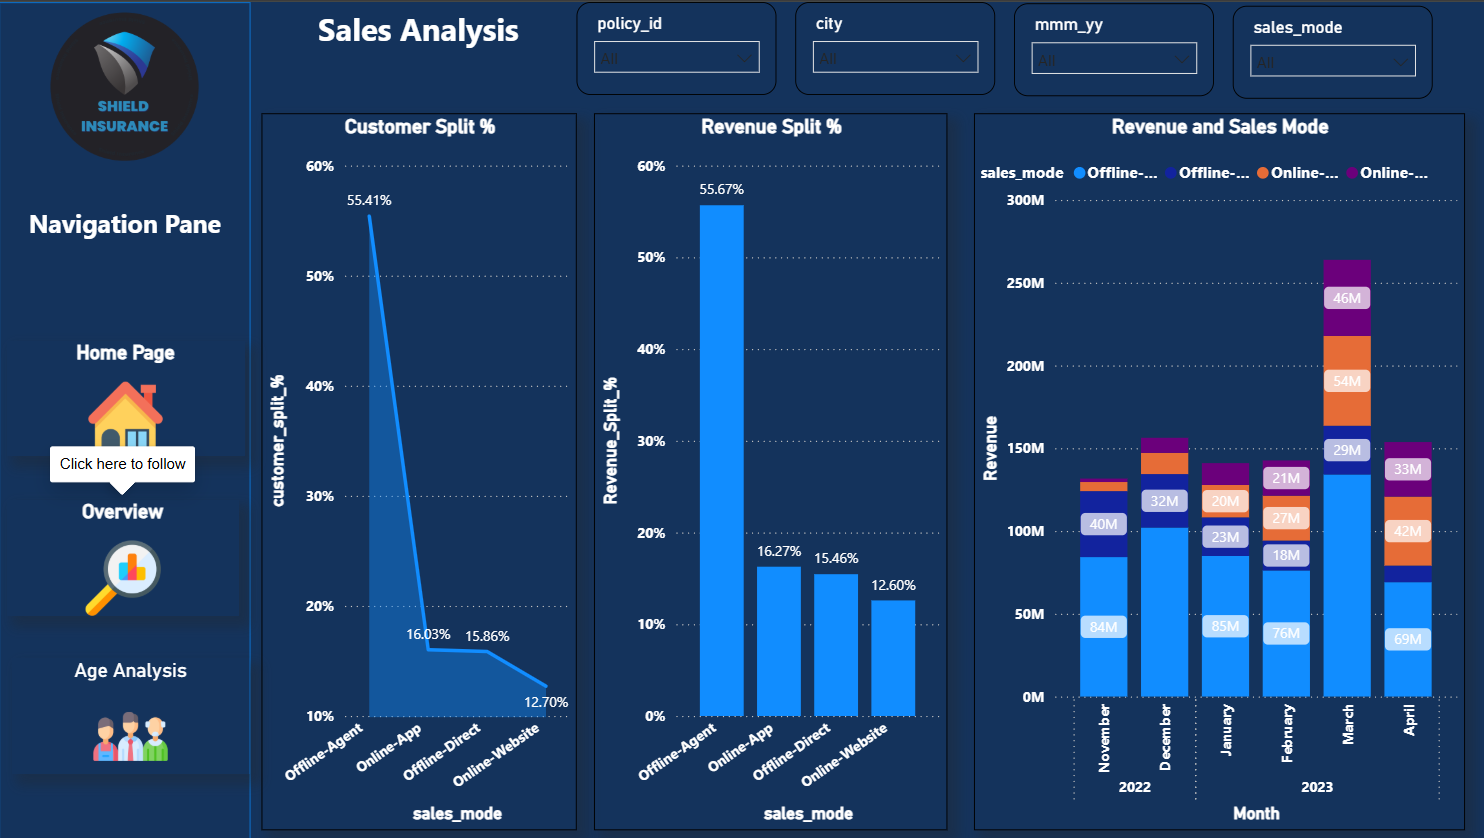

The page's visual inventory and layout, read from the dashboard file:
{"tool":"powerbi","page":{"name":"Sales Analysis","canvas":[1280,720],"ordinal":2},"visuals":[{"type":"shape","box":[0,0,216.5,720.4],"z":0},{"type":"textbox","box":[0,170.5,216.5,70.9],"z":1000},{"type":"image","box":[0,2.7,216.5,139.3],"z":2000},{"type":"image","title":"Age Analysis","box":[10.7,564.2,205,99],"z":3000},{"type":"image","title":"Home Page","box":[6.7,291.5,205,99],"z":4000},{"type":"slicer","fields":{"Values":["dim_date.mmm_yy"]},"box":[873,1.5,172,80],"z":5000},{"type":"slicer","fields":{"Values":["dim_customer.city"]},"box":[684.8,0,172,80],"z":6000},{"type":"slicer","fields":{"Values":["dim_policies.policy_id"]},"box":[496.6,0,172.1,80],"z":7000},{"type":"slicer","fields":{"Values":["fact_premiums.sales_mode"]},"box":[1061.1,3,172,80],"z":8000},{"type":"textbox","box":[226.3,0,270,66.5],"z":9000},{"type":"areaChart","title":"Customer Split %","fields":{"Category":["fact_premiums.sales_mode"],"Y":["Measures (2).customer_split_%"]},"box":[225.6,95.3,271.4,616.5],"z":10000},{"type":"columnChart","title":"Revenue Split %","fields":{"Category":["fact_premiums.sales_mode"],"Y":["Measures (2).Revenue_Split_%"]},"box":[511.5,95.3,304,616.5],"z":11000},{"type":"lineStackedColumnComboChart","title":"Revenue and Sales Mode ","fields":{"Category":["dim_date.date.Variation.Date Hierarchy.Year","dim_date.date.Variation.Date Hierarchy.Month"],"Series":["fact_premiums.sales_mode"],"Y":["Measures (2).Revenue"]},"box":[838.5,95.3,422.3,616.5],"z":12000},{"type":"image","title":"Overview","box":[6.2,427.5,200,100],"z":13000}]}

Visuals, with their boxes in screenshot pixels (x1, y1, x2, y2), scaled from the page's 1280x720 canvas onto the 1484x838 screenshot:
shape: 0,0,251,837
textbox: 0,198,251,281
image: 0,3,251,165
"Age Analysis" image: 12,657,250,772
"Home Page" image: 8,339,245,454
slicer - dim_date.mmm_yy: 1012,2,1212,95
slicer - dim_customer.city: 794,0,993,93
slicer - dim_policies.policy_id: 576,0,775,93
slicer - fact_premiums.sales_mode: 1230,3,1430,97
textbox: 262,0,575,77
"Customer Split %" areaChart: 262,111,576,828
"Revenue Split %" columnChart: 593,111,945,828
"Revenue and Sales Mode " lineStackedColumnComboChart: 972,111,1462,828
"Overview" image: 7,498,239,614
